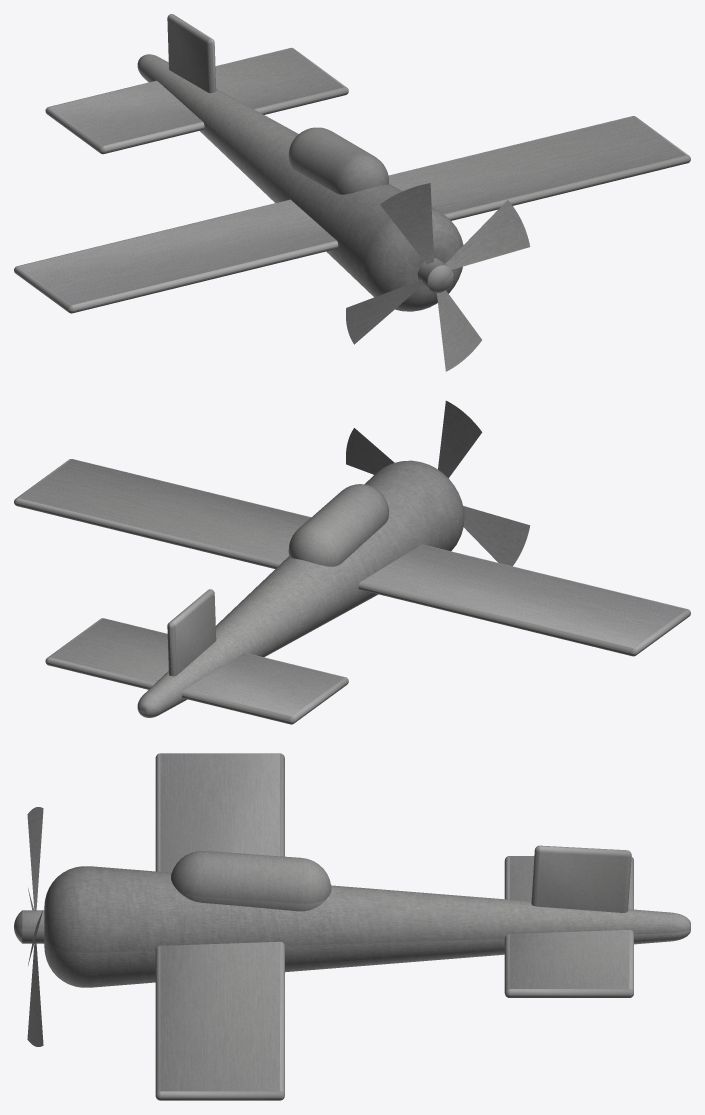
Rendered from Simple Plane.obj.
3 renders of one model, top to bottom at view 1: azimuth 30°, elevation 25°; view 2: azimuth 150°, elevation 25°; view 3: azimuth 270°, elevation 25°, orthographic. The views are drawn at different scales.
Parts seen in each view (by area): view 1: front_wings, body, back_wings, window, tail, blade_1, blade_3, blade_2, blade_4, center; view 2: front_wings, body, back_wings, window, tail, blade_4, blade_3, blade_1; view 3: body, front_wings, back_wings, window, tail, blade_2, blade_3, center.
Boxes of the visible parts, box(x1,y1,x2,y2) form: front_wings: box(14, 116, 690, 313); body: box(137, 54, 463, 311); back_wings: box(45, 47, 348, 154); window: box(288, 127, 388, 194); tail: box(167, 14, 216, 93); blade_1: box(445, 200, 530, 269); blade_3: box(380, 183, 433, 264); blade_2: box(436, 290, 481, 371); blade_4: box(346, 279, 423, 344); center: box(417, 258, 453, 292); front_wings: box(14, 459, 690, 656); body: box(137, 460, 464, 717); back_wings: box(45, 618, 348, 724); window: box(288, 484, 388, 566); tail: box(167, 589, 216, 676); blade_4: box(463, 506, 530, 566); blade_3: box(438, 400, 482, 478); blade_1: box(346, 428, 394, 474); body: box(44, 866, 690, 987); front_wings: box(155, 753, 284, 1100); back_wings: box(504, 856, 633, 997); window: box(171, 851, 331, 911); tail: box(531, 845, 631, 912); blade_2: box(27, 943, 43, 1046); blade_3: box(27, 807, 43, 910); center: box(14, 910, 44, 943).
Bounding box in the file's own units: 1250 × 370 × 1047.
Materials: 3 (3 with a texture image).
